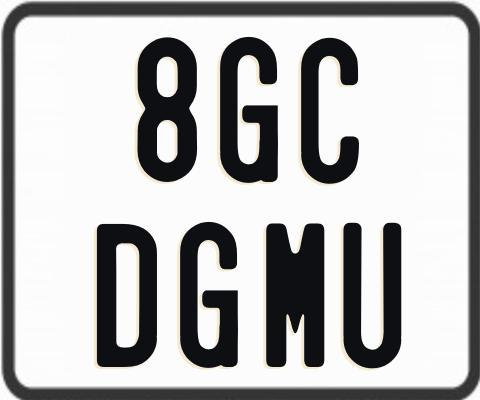8: (134, 36, 195, 181)
C: (299, 35, 362, 186)
D: (97, 223, 158, 366)
G: (179, 221, 243, 373), (220, 37, 281, 188)
M: (263, 223, 324, 367)
U: (340, 221, 403, 372)
